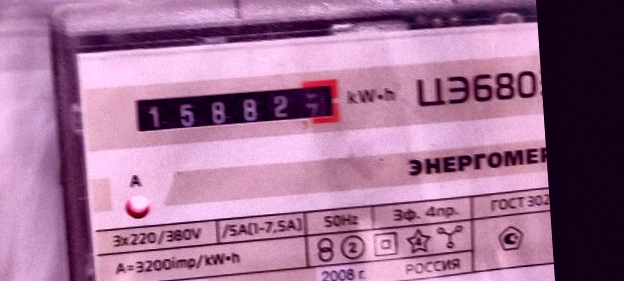1: (146, 103, 162, 129)
2: (272, 91, 290, 118)
5: (177, 101, 195, 127)
7: (303, 99, 319, 116)
8: (208, 99, 227, 124), (240, 95, 258, 121)
screen: (121, 70, 351, 146)
